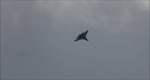maybay_muctieu: (73, 29, 89, 43)
